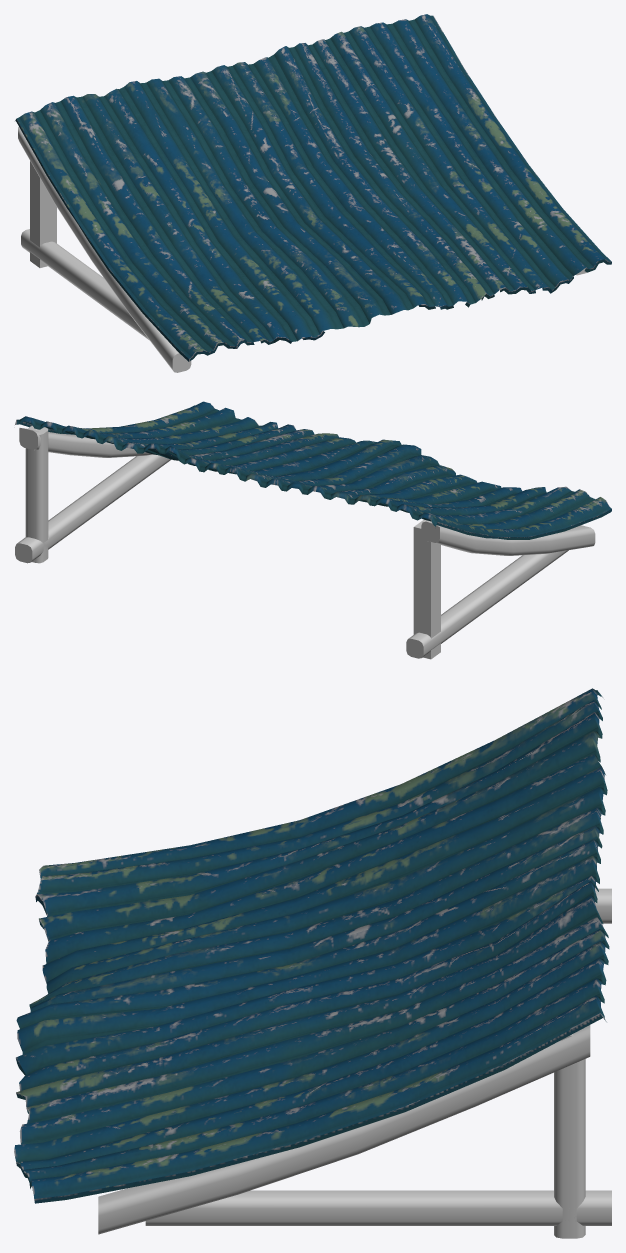
File: SM_RoofSideTop_01.fbx
The picture shows the model from 3 angles, top to bottom: view 1: azimuth 30°, elevation 25°; view 2: azimuth 150°, elevation 25°; view 3: azimuth 270°, elevation 25°; orthographic projection. The views are drawn at different scales.
Parts seen in each view (by area): view 1: RoofSideTop; view 2: RoofSideTop; view 3: RoofSideTop.
Boxes of the visible parts, x1,y1,x2,y2 form: RoofSideTop: (15, 14, 611, 372); RoofSideTop: (15, 401, 611, 659); RoofSideTop: (14, 688, 611, 1238).
Size of the model in its own units: 502 by 174 by 389.
